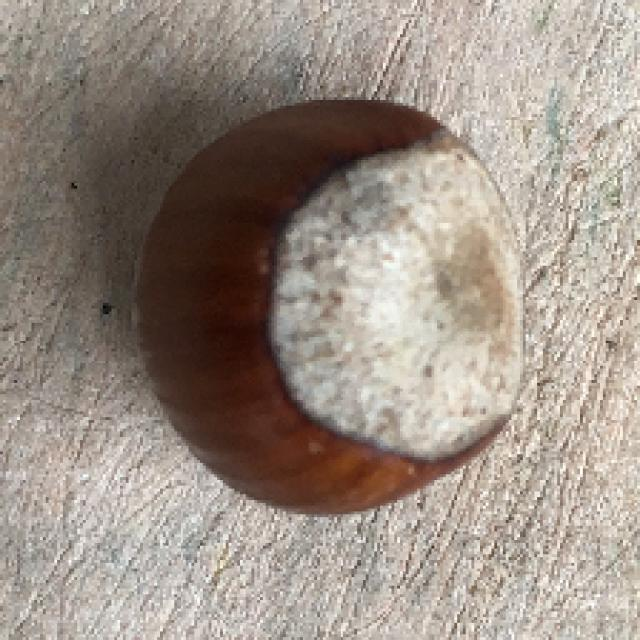qualityHazelnut: (142, 98, 530, 521)
